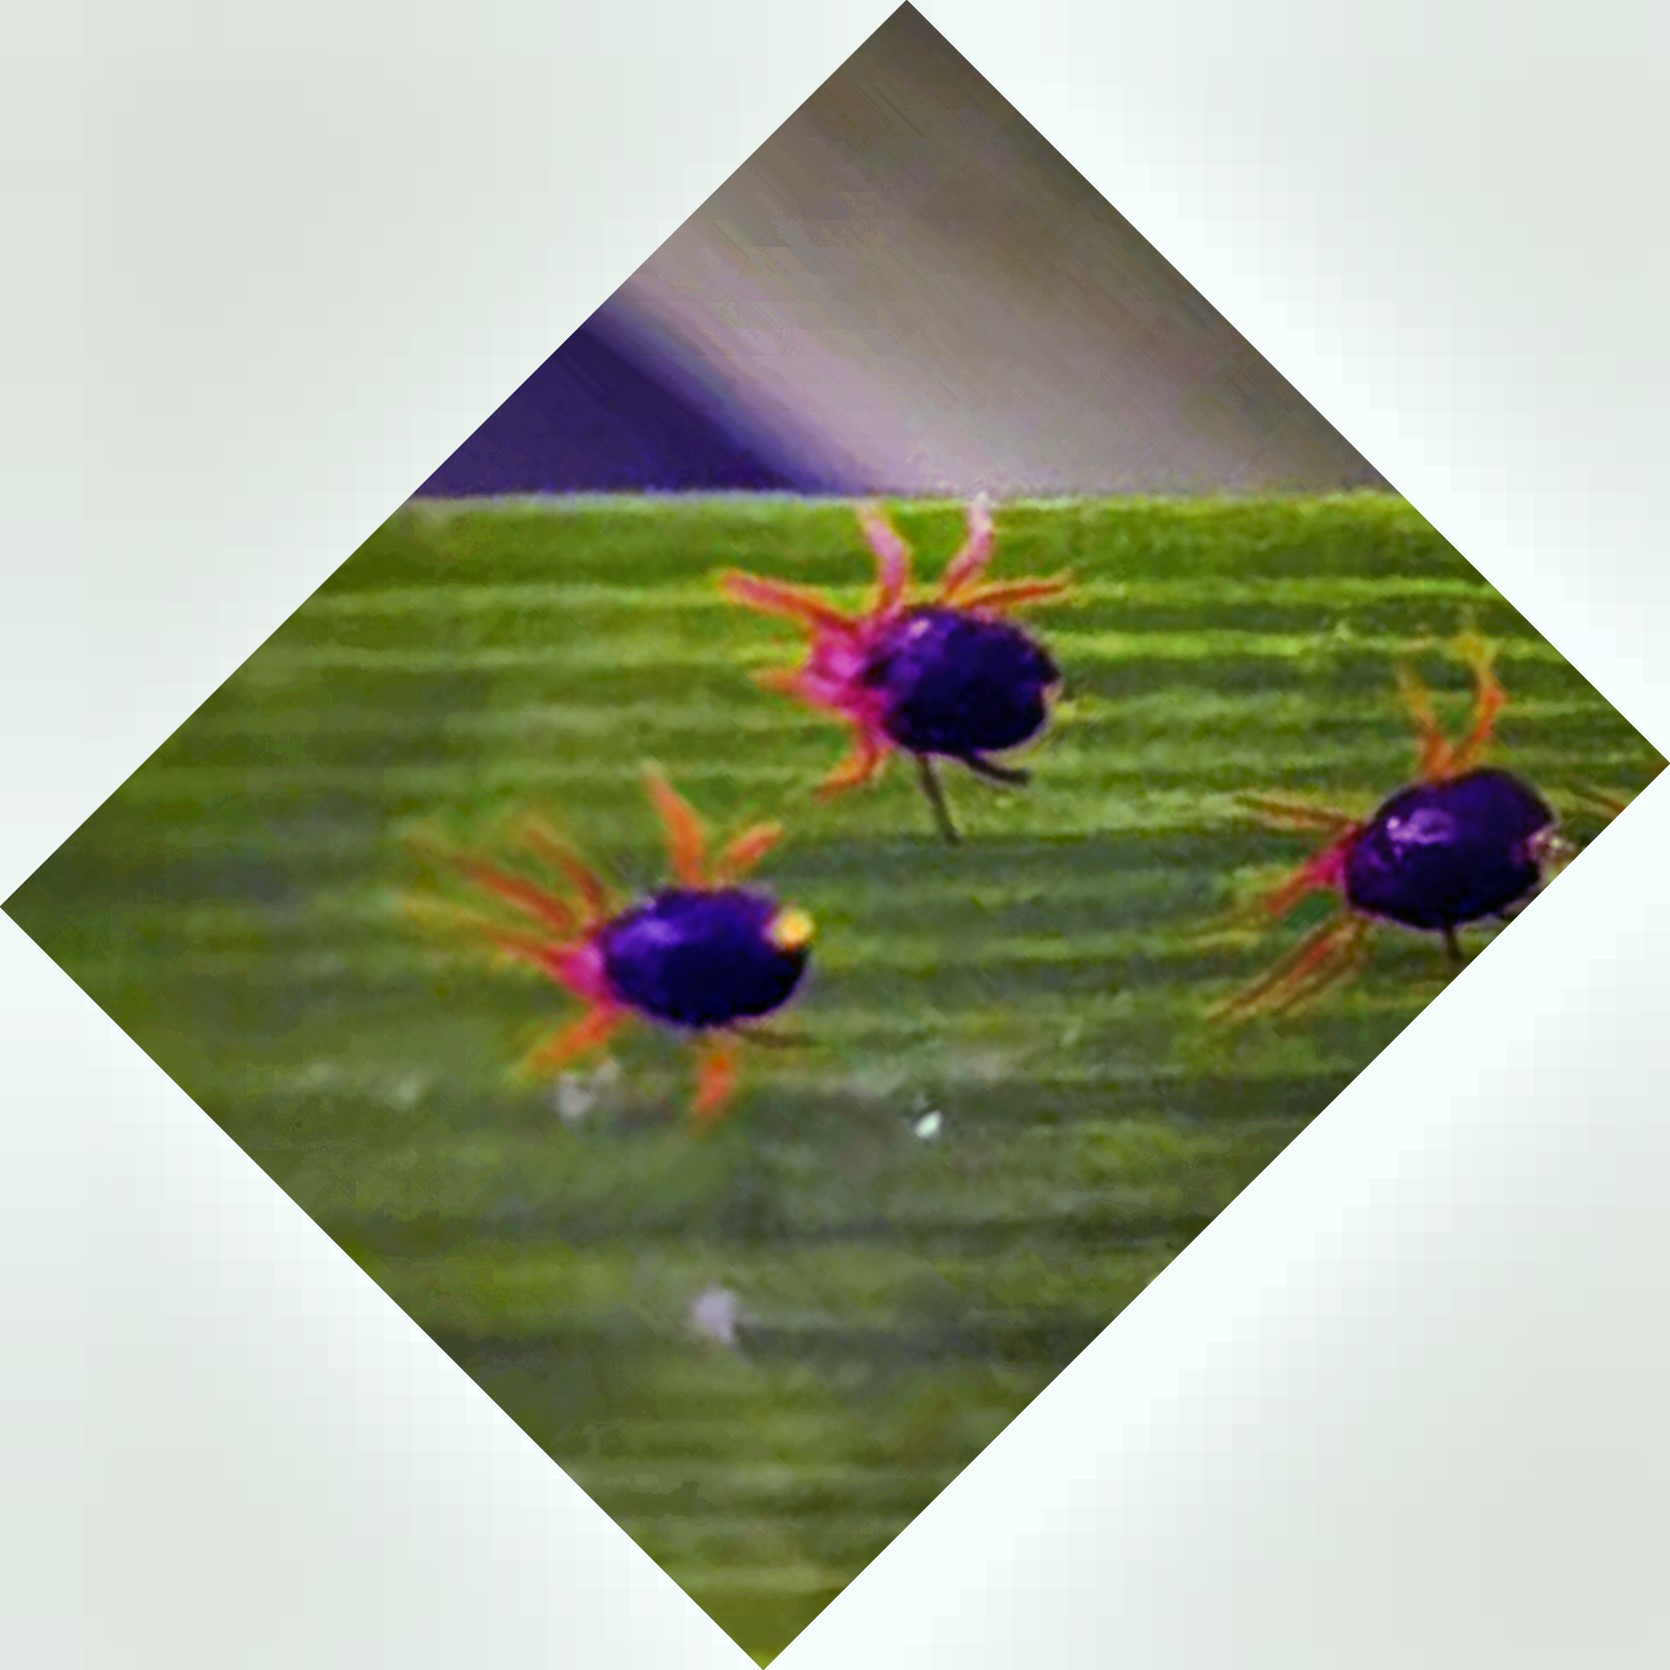Wheat Red Spider: (653, 474, 1132, 853)
